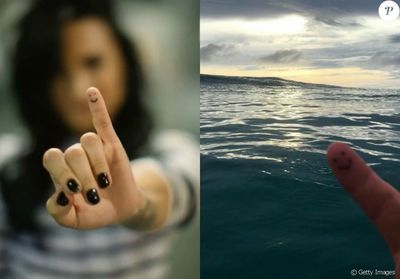closedhandfront: (32, 138, 153, 234)
mindinho: (81, 84, 124, 144)
